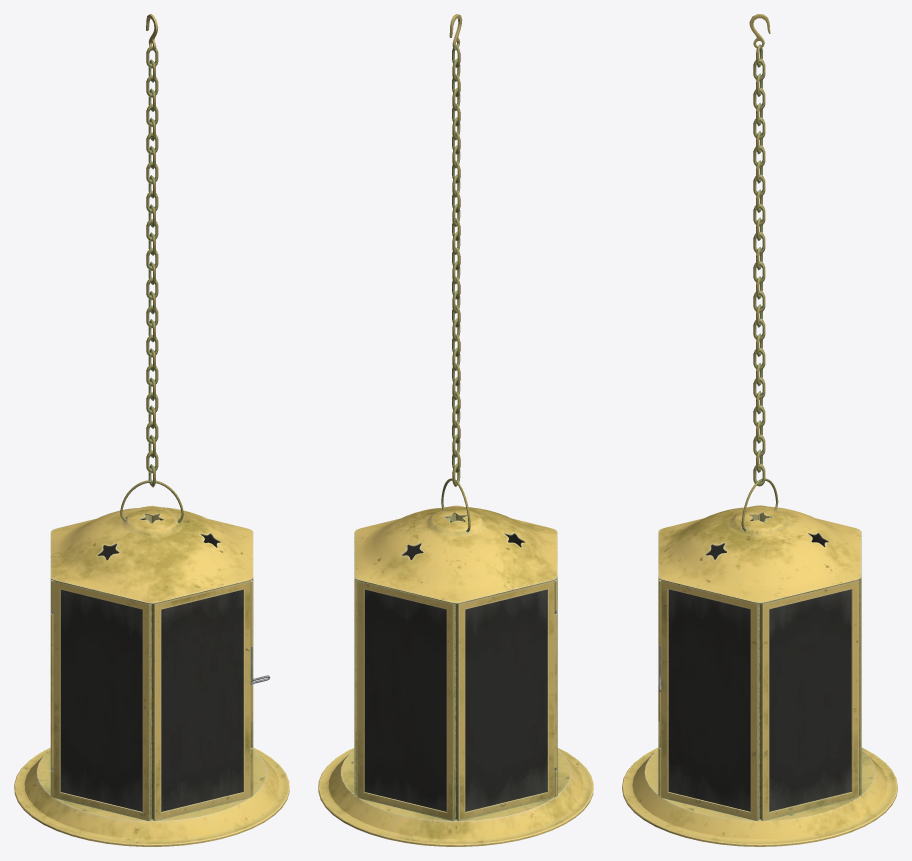
Rendered from brass_diya_lantern.glb.
The picture shows the model from 3 angles, left to right: view 1: azimuth 30°, elevation 25°; view 2: azimuth 150°, elevation 25°; view 3: azimuth 270°, elevation 25°; orthographic projection.
Parts seen in each view (by area): view 1: brass_diya_lantern, brass_diya_lantern_chain; view 2: brass_diya_lantern, brass_diya_lantern_chain; view 3: brass_diya_lantern, brass_diya_lantern_chain.
Part boxes in pixels (x1,y1,x2,y2): brass_diya_lantern: (14,505,289,846); brass_diya_lantern_chain: (146,14,158,487); brass_diya_lantern: (318,505,593,846); brass_diya_lantern_chain: (449,14,462,486); brass_diya_lantern: (622,505,897,846); brass_diya_lantern_chain: (749,14,770,486).
Bounding box in the file's own units: 0.123 × 0.3808 × 0.123.
Materials: 3 (3 with a texture image).
